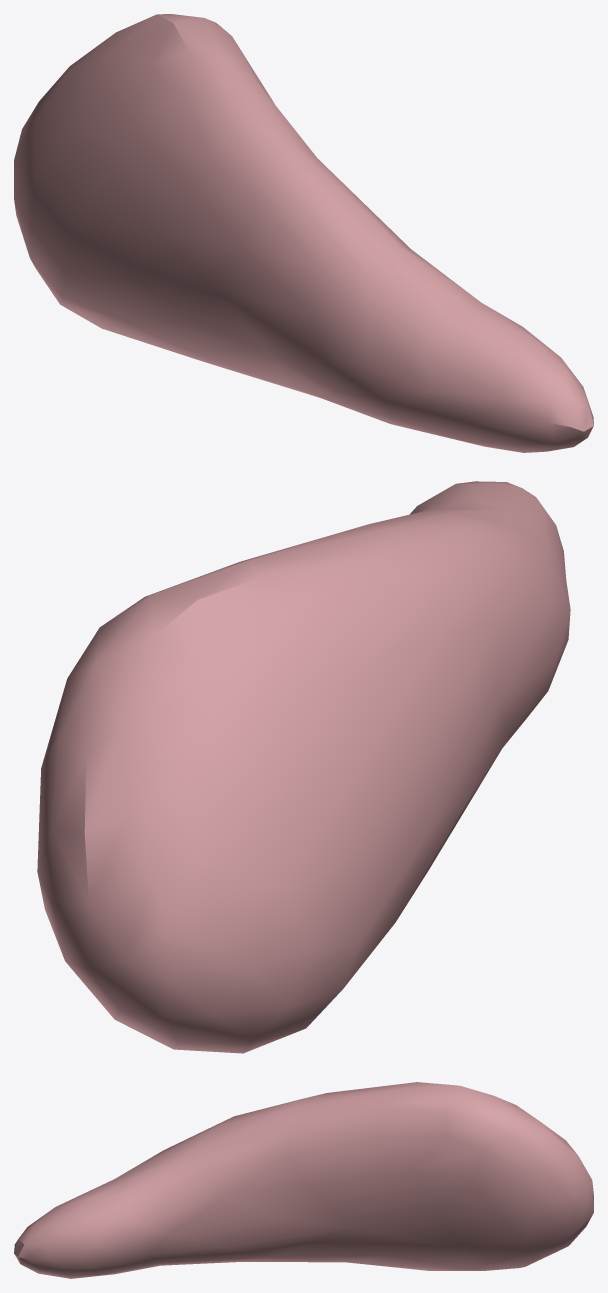
The model's file is fma59553_mm2112m.glb.
3 renders of one model, top to bottom at view 1: azimuth 30°, elevation 25°; view 2: azimuth 150°, elevation 25°; view 3: azimuth 270°, elevation 25°, orthographic. The views are drawn at different scales.
Visible parts, largest first — view 1: FMA59553_MM2112M; view 2: FMA59553_MM2112M; view 3: FMA59553_MM2112M.
Boxes of the visible parts, x1=… form: FMA59553_MM2112M: x1=14, y1=14, x2=593, y2=452; FMA59553_MM2112M: x1=37, y1=481, x2=570, y2=1053; FMA59553_MM2112M: x1=14, y1=1082, x2=593, y2=1278.
Size of the model in its own units: 0.0065 by 0.00778 by 0.0203.
